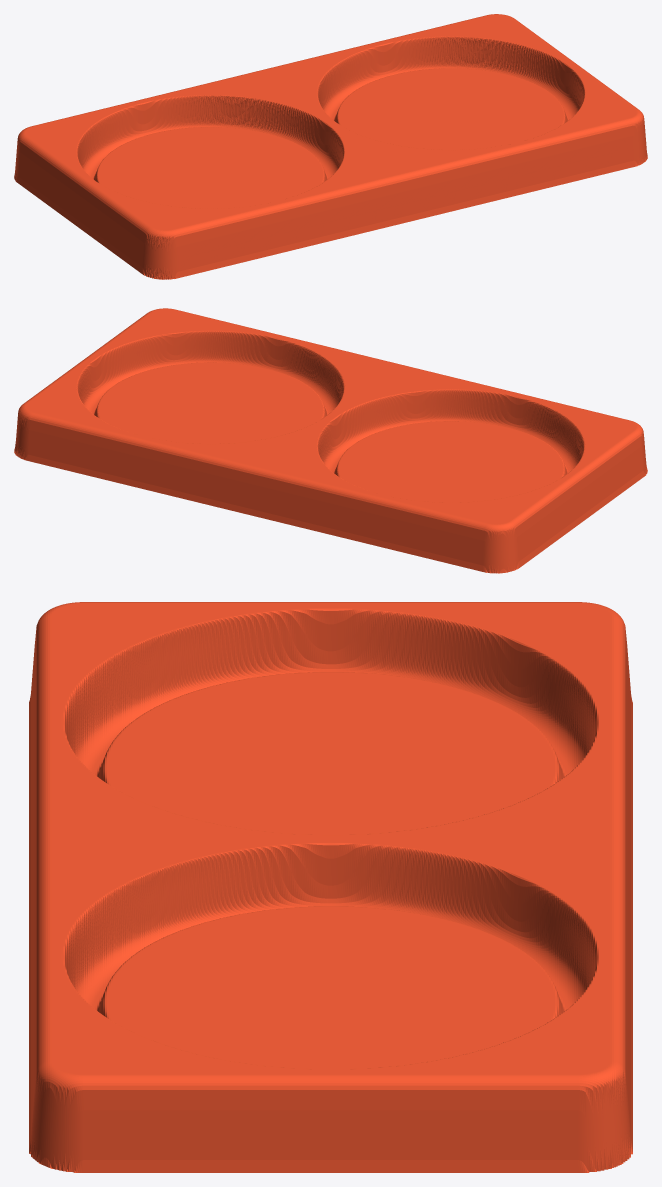
File: mold.glb
The picture shows the model from 3 angles, top to bottom: view 1: azimuth 30°, elevation 25°; view 2: azimuth 150°, elevation 25°; view 3: azimuth 270°, elevation 25°; orthographic projection. The views are drawn at different scales.
Parts seen in each view (by area): view 1: geometry_0; view 2: geometry_0; view 3: geometry_0.
Part boxes in pixels (<box>): geometry_0: <box>14,14,647,279</box>; geometry_0: <box>14,308,647,573</box>; geometry_0: <box>29,602,632,1172</box>.
Bounding box in the file's own units: 0.1946 × 0.0165 × 0.1015.
